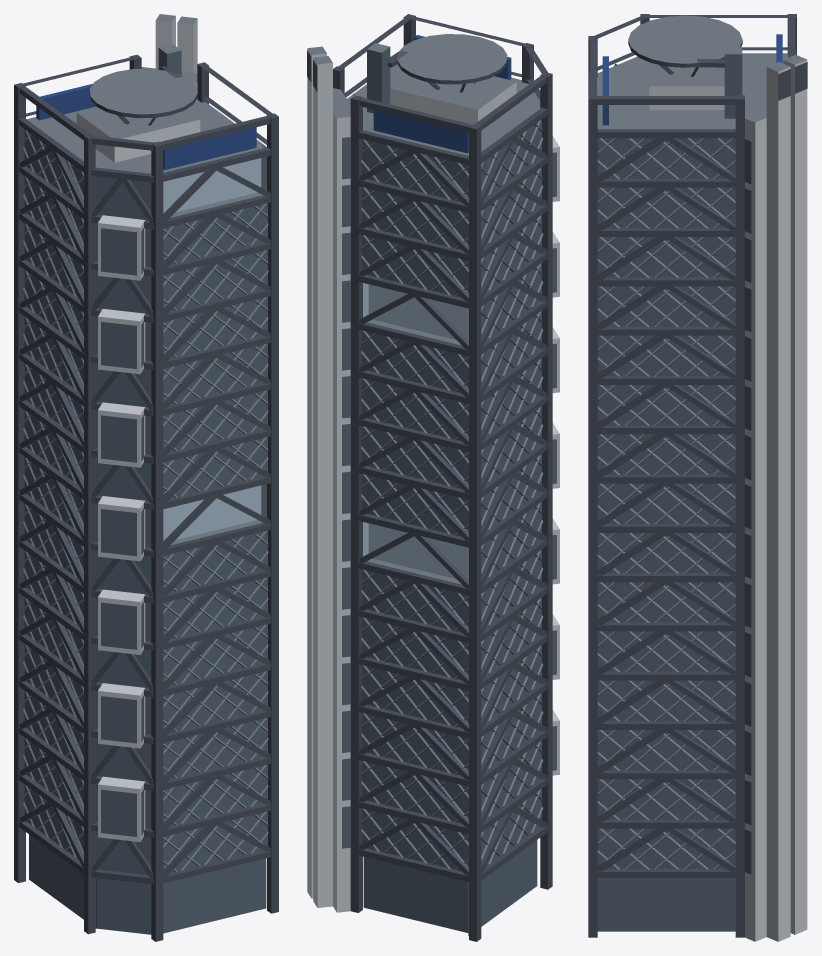
Rendered from mexico-city-torre-bbva.glb.
3 views of the same model, side by side, from view 1: azimuth 30°, elevation 25°; view 2: azimuth 150°, elevation 25°; view 3: azimuth 270°, elevation 25° (orthographic). The views are drawn at different scales.
Visible parts, largest first — view 1: Torre BBVA México; view 2: Torre BBVA México; view 3: Torre BBVA México.
Part boxes in pixels (x1=…): Torre BBVA México: x1=14, y1=14, x2=278, y2=941; Torre BBVA México: x1=307, y1=14, x2=559, y2=941; Torre BBVA México: x1=588, y1=14, x2=807, y2=941.
Size of the model in its own units: 53.17 by 240 by 54.77.
